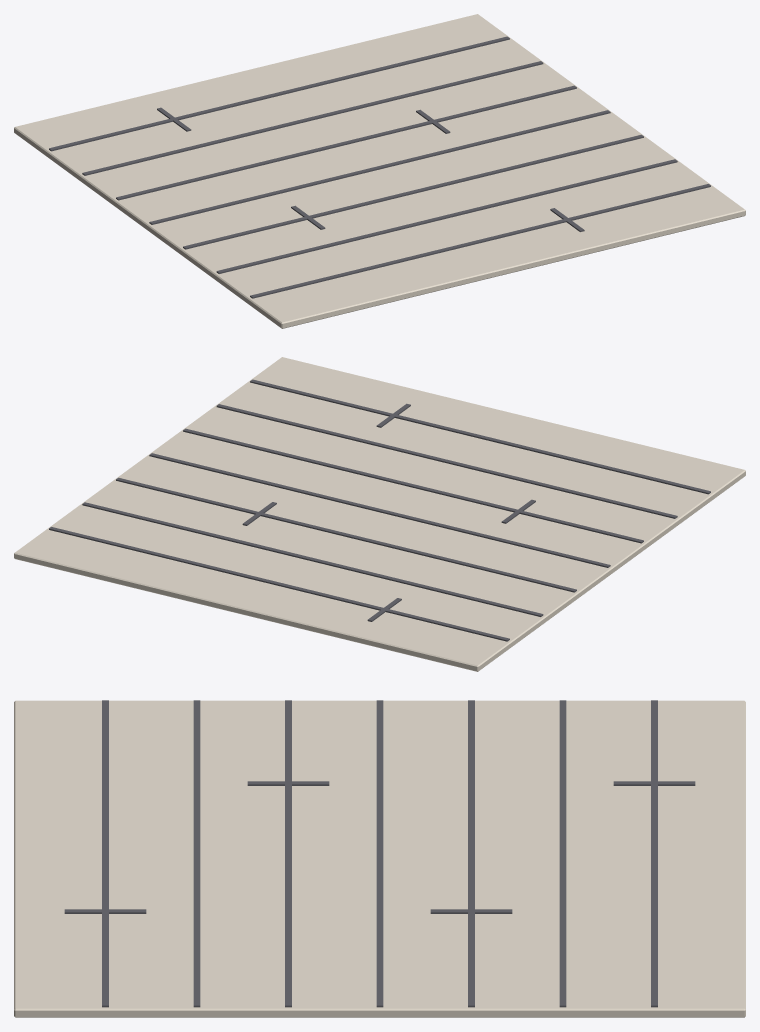
The model's file is clothing-rail-and-wardrobe-shop-floor-tile-162f9b7b__35478.glb.
The picture shows the model from 3 angles, top to bottom: view 1: azimuth 30°, elevation 25°; view 2: azimuth 150°, elevation 25°; view 3: azimuth 270°, elevation 25°; orthographic projection. The views are drawn at different scales.
Parts seen in each view (by area): view 1: shop-floor-tile; view 2: shop-floor-tile; view 3: shop-floor-tile.
Boxes of the visible parts, bbox=[...] form: shop-floor-tile: bbox=[14, 14, 745, 328]; shop-floor-tile: bbox=[14, 357, 745, 671]; shop-floor-tile: bbox=[14, 700, 745, 1017].
Bounding box in the file's own units: 1.5 × 0.024 × 1.5.
